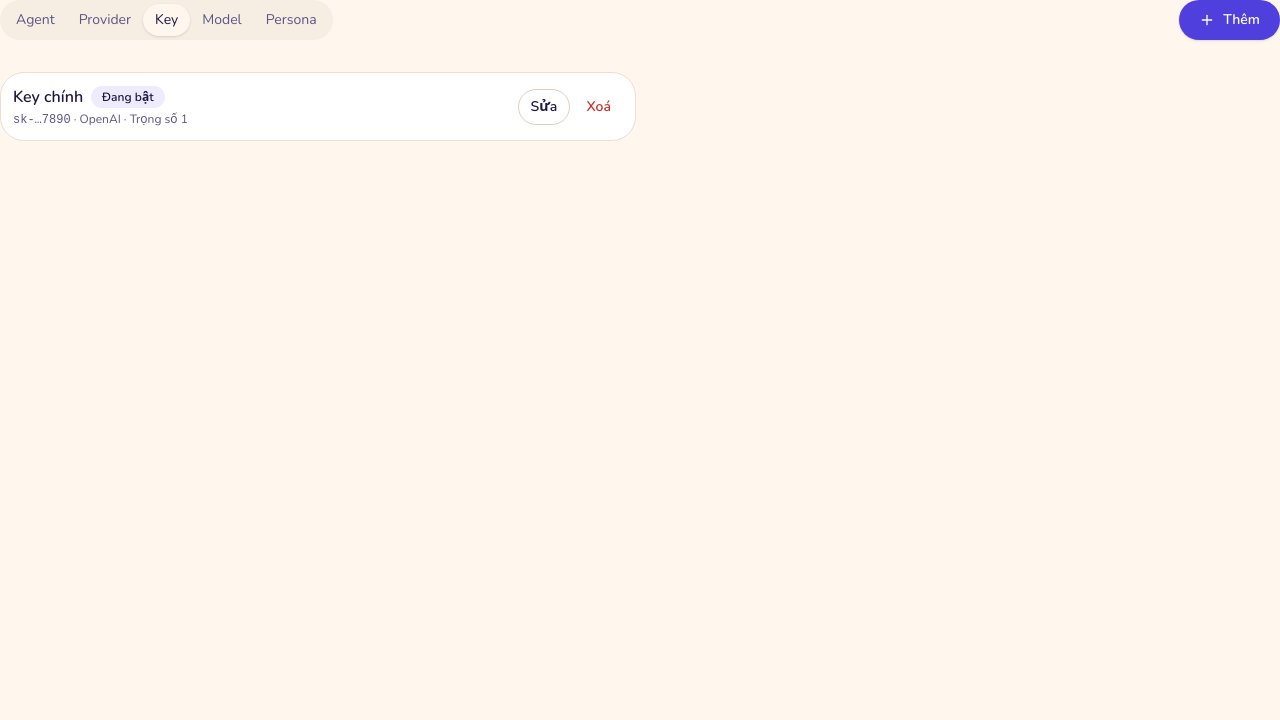
Studio › tạo credential gửi secret; danh sách chỉ hiện masked_hint, DOM không chứa secret
Expected: the text with test id "credential-hint-c1" reads "sk-…7890", [13, 113, 71, 127]
Step 1. Click the button with test id "credential-add" → (1230, 20), box [1179, 0, 1279, 40]
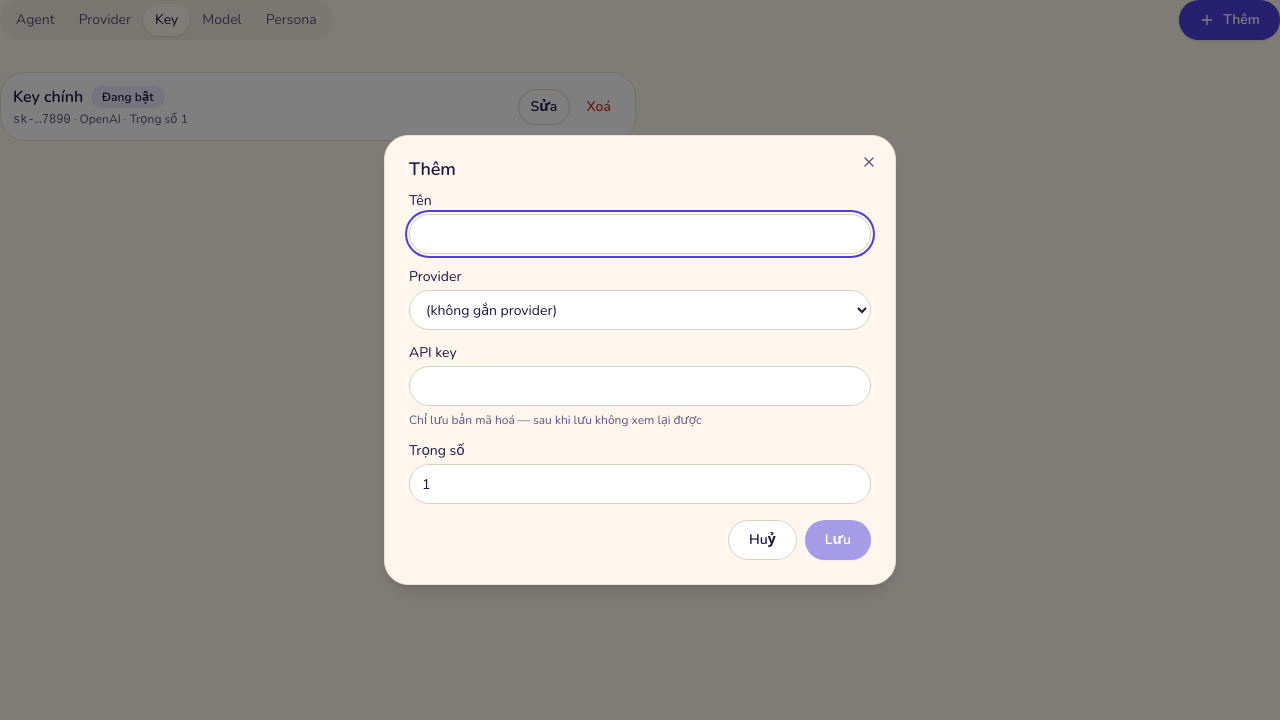
Step 2. Type "Key phụ" into the field labelled "Tên" → (640, 234), box [409, 214, 871, 254]
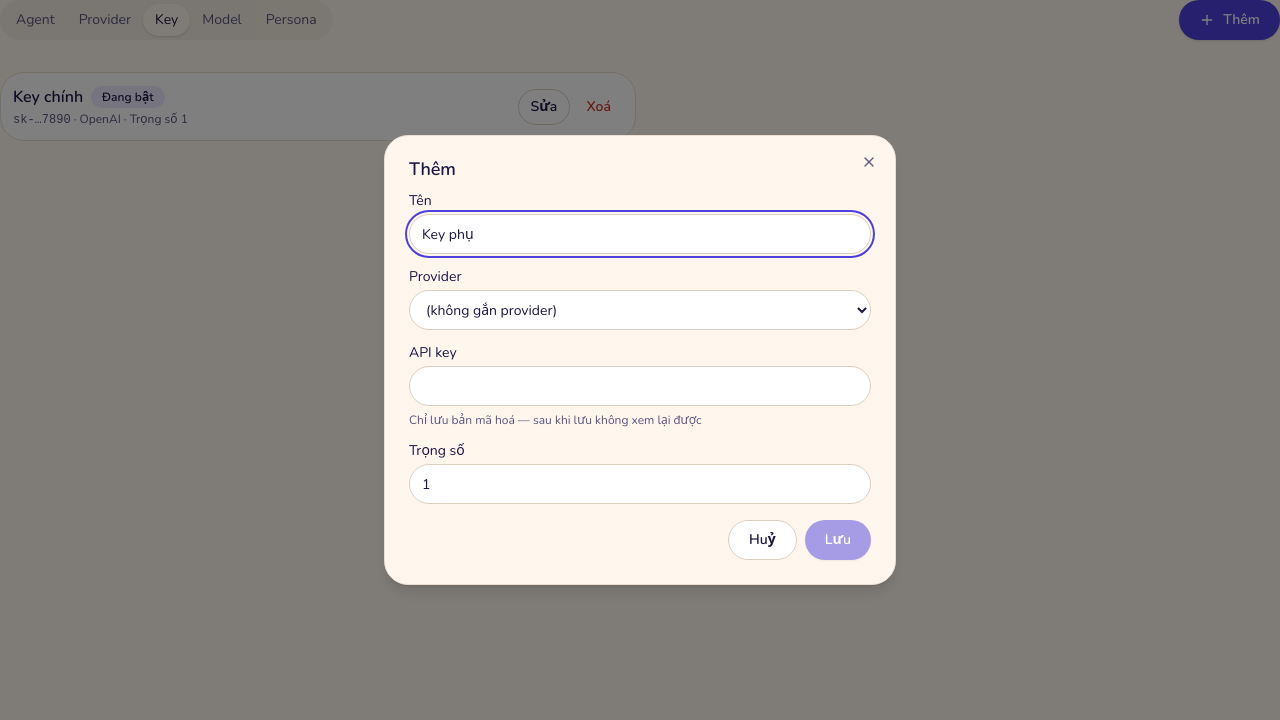
Step 3. Type "sk-SUPER-SECRET-VALUE-1234567890" into the password field with test id "credential-secret" → (640, 386), box [409, 366, 871, 406]
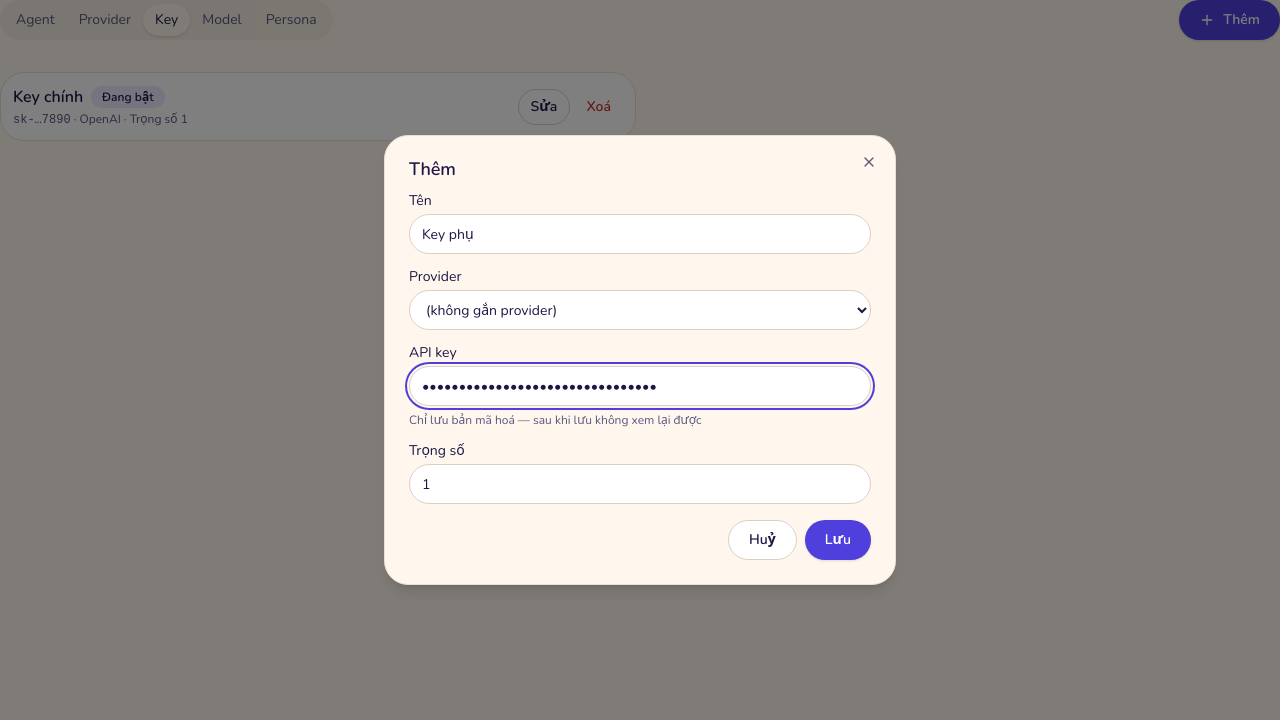
Step 4. Click the button with test id "dialog-submit" → (838, 540), box [805, 520, 871, 560]
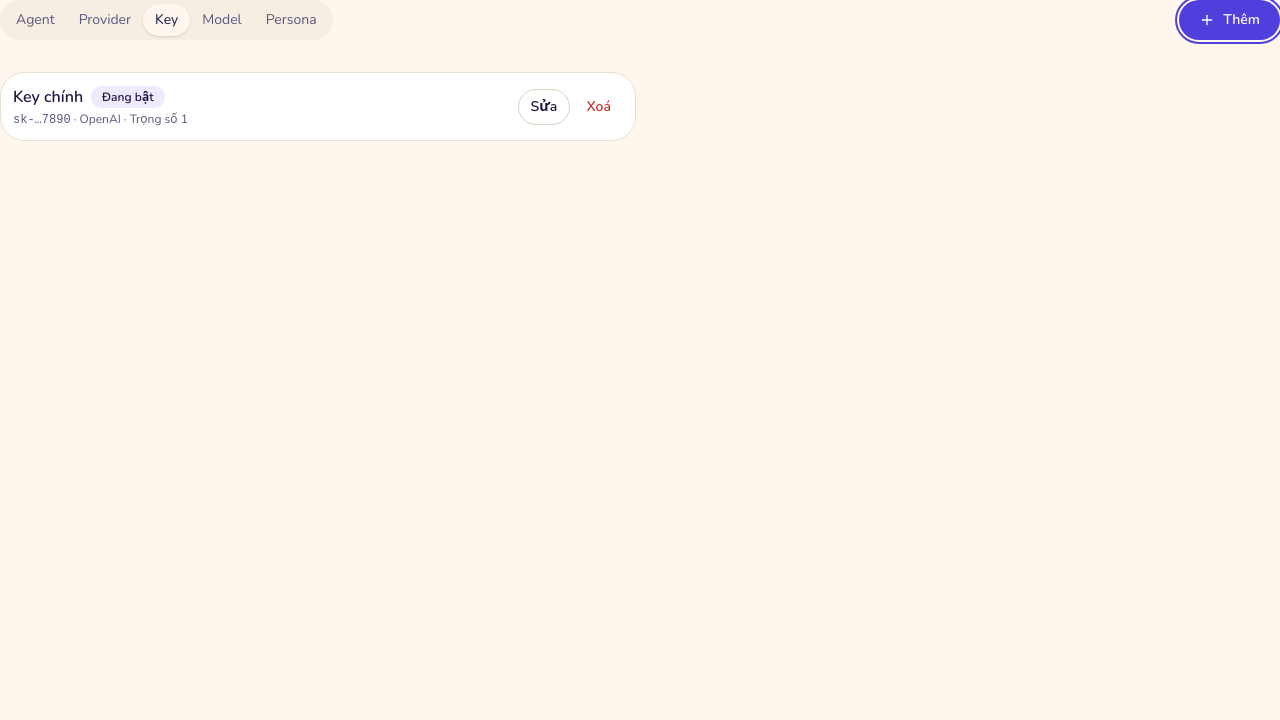
Now the dialog is gone
